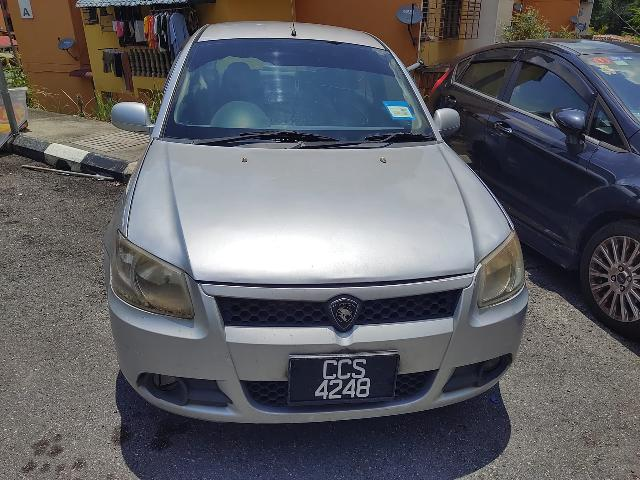License_Plate: (293, 355, 395, 407)
car: (116, 16, 530, 420)
